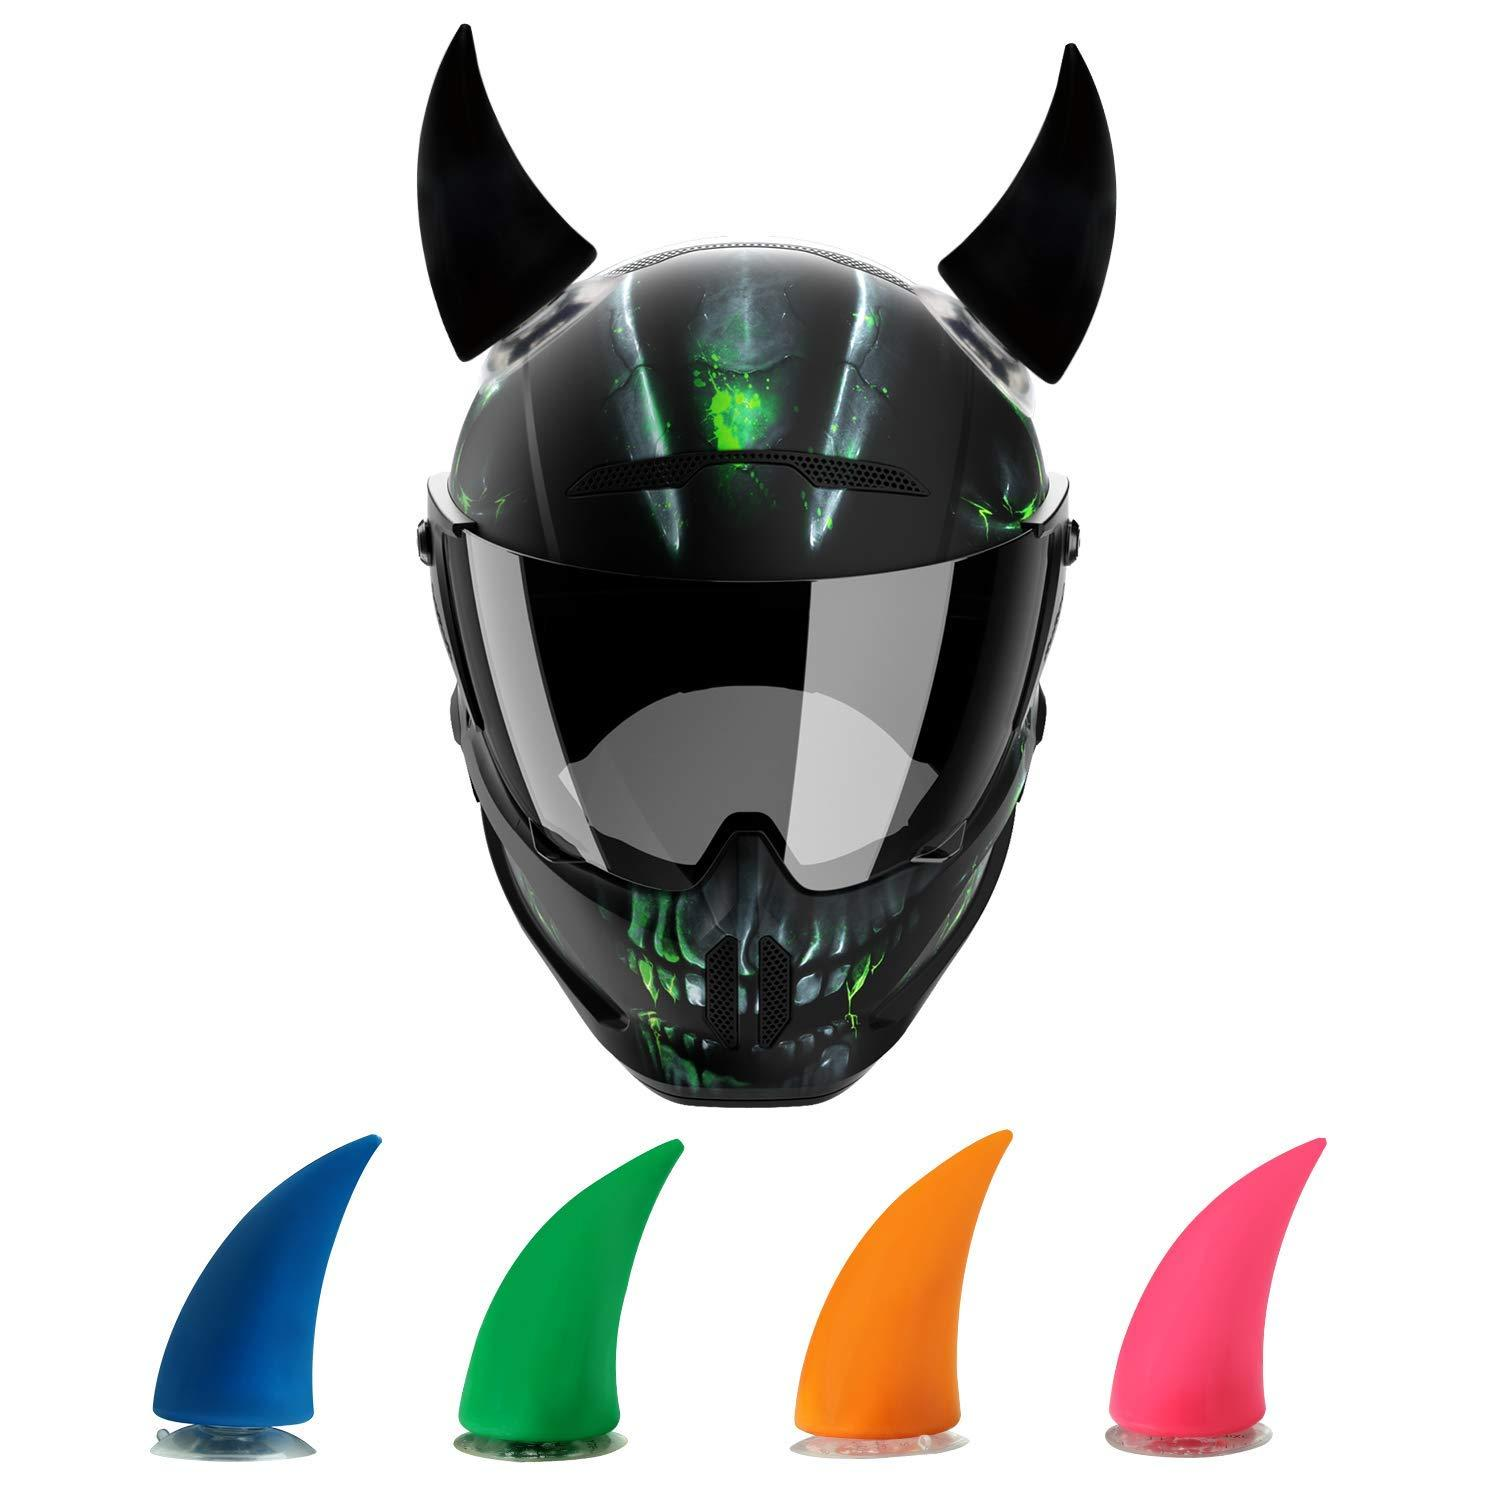helmet: (407, 250, 1088, 1118)
